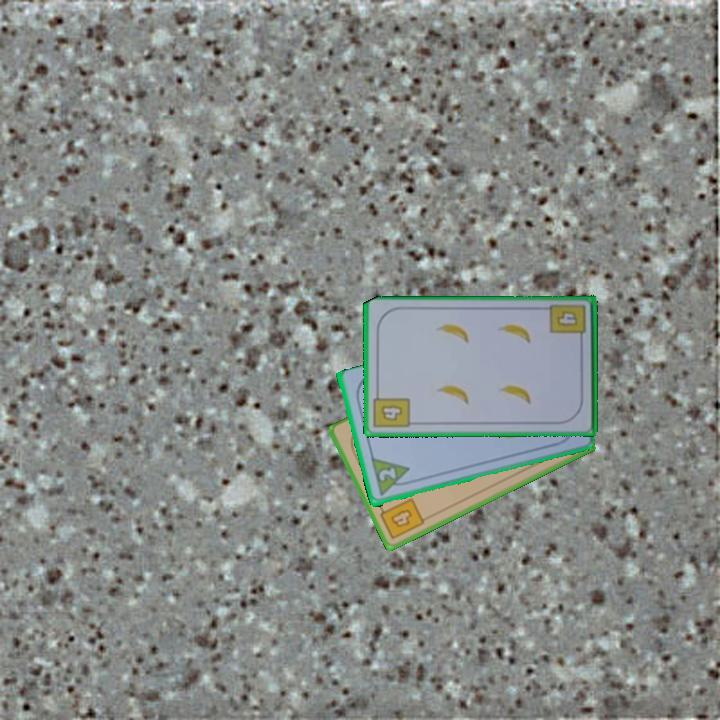2p: (368, 455, 415, 499)
4b: (375, 495, 427, 542), (370, 387, 412, 431), (547, 301, 589, 345)
